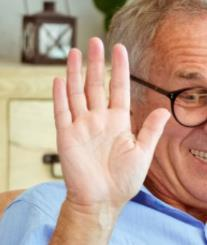down: (51, 37, 170, 209)
